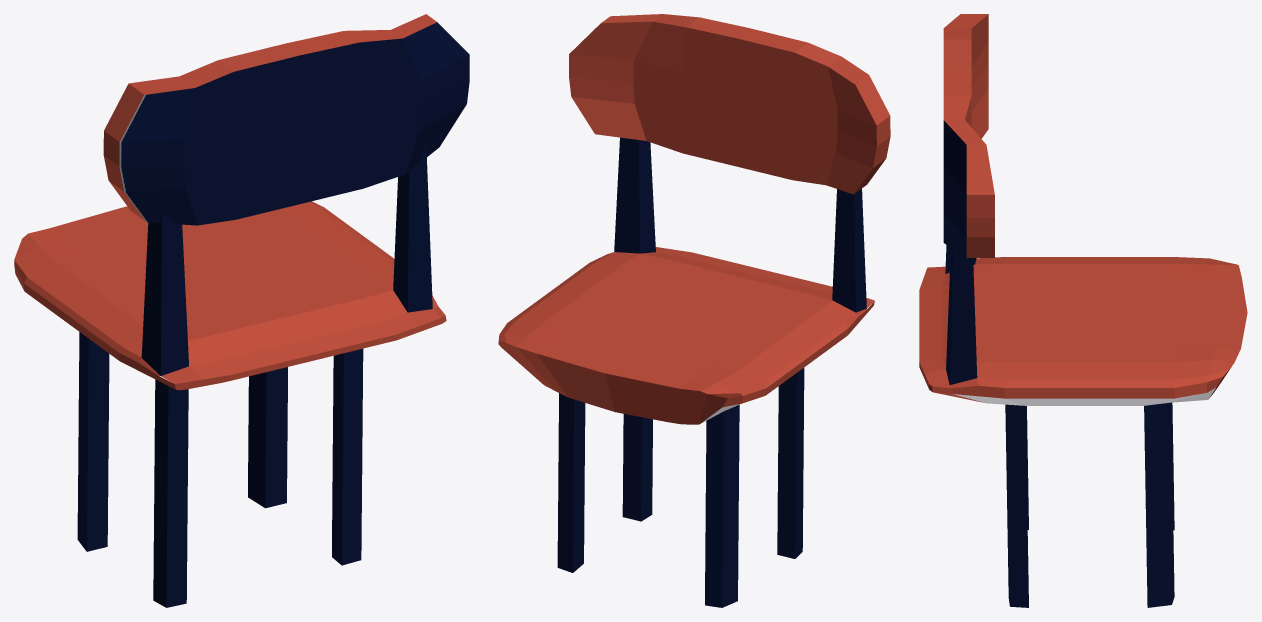
Rendered from chair.fbx.
The picture shows the model from 3 angles, left to right: view 1: azimuth 30°, elevation 25°; view 2: azimuth 150°, elevation 25°; view 3: azimuth 270°, elevation 25°; orthographic projection. The views are drawn at different scales.
Visible parts, largest first — view 1: Cube; view 2: Cube; view 3: Cube.
Boxes of the visible parts, x1=… form: Cube: x1=14, y1=14, x2=469, y2=607; Cube: x1=498, y1=14, x2=890, y2=607; Cube: x1=919, y1=14, x2=1247, y2=607.
Bounding box in the file's own units: 214 × 322 × 193.
